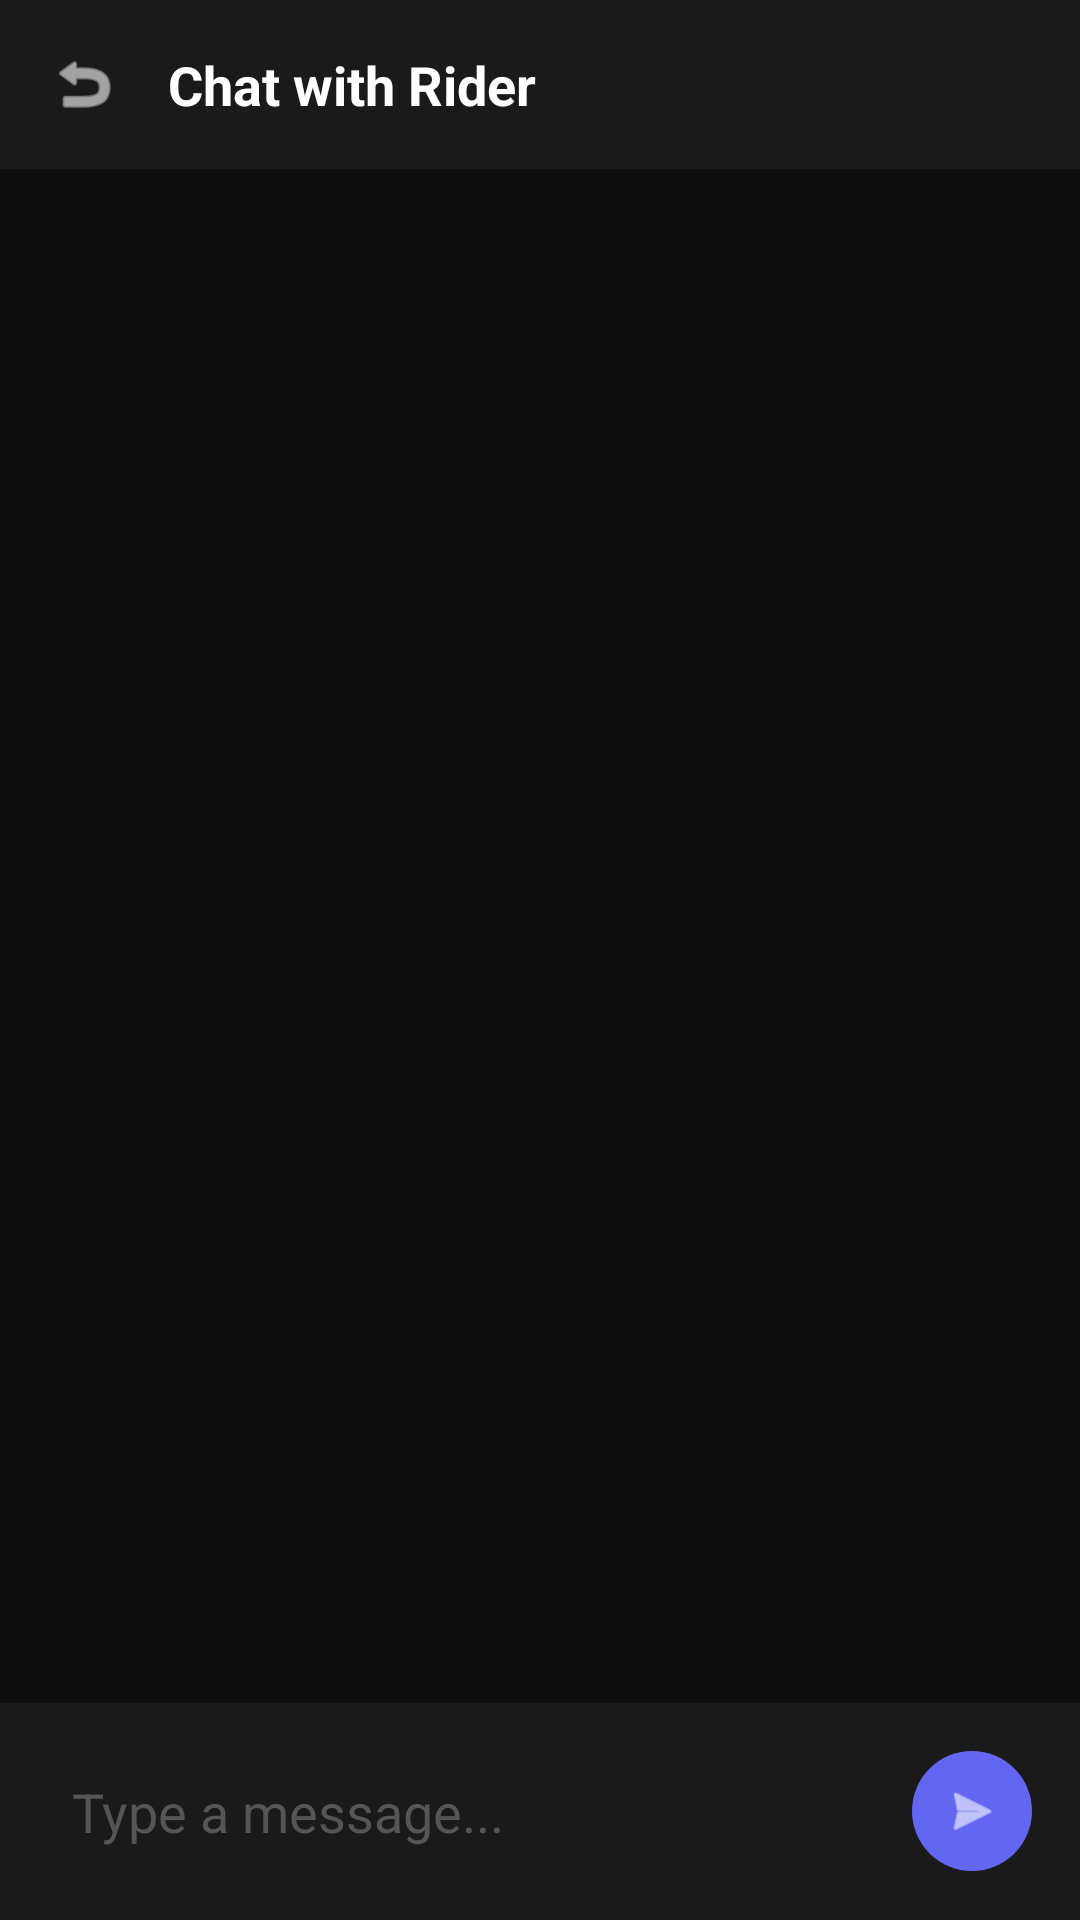

Screen size 1080 x 1920. Icon name, then its box in pixels as (x1, y1, x2, y2):
revert: (59, 61, 111, 108)
send: (912, 1751, 1032, 1871)
